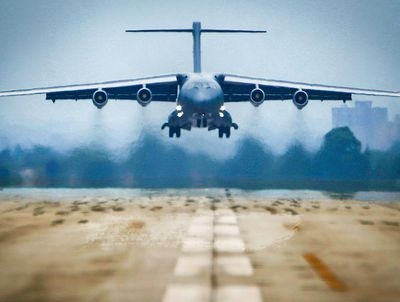airplane: (1, 24, 400, 143)
